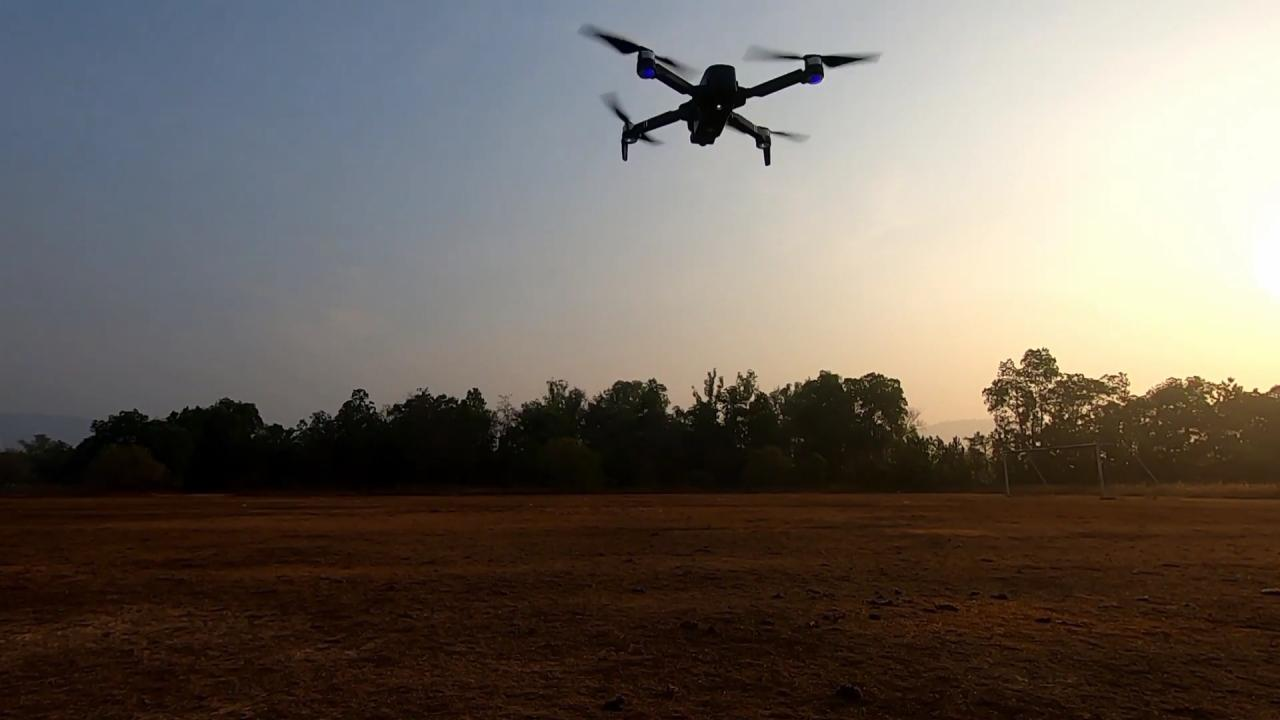Drone: (568, 16, 889, 174)
